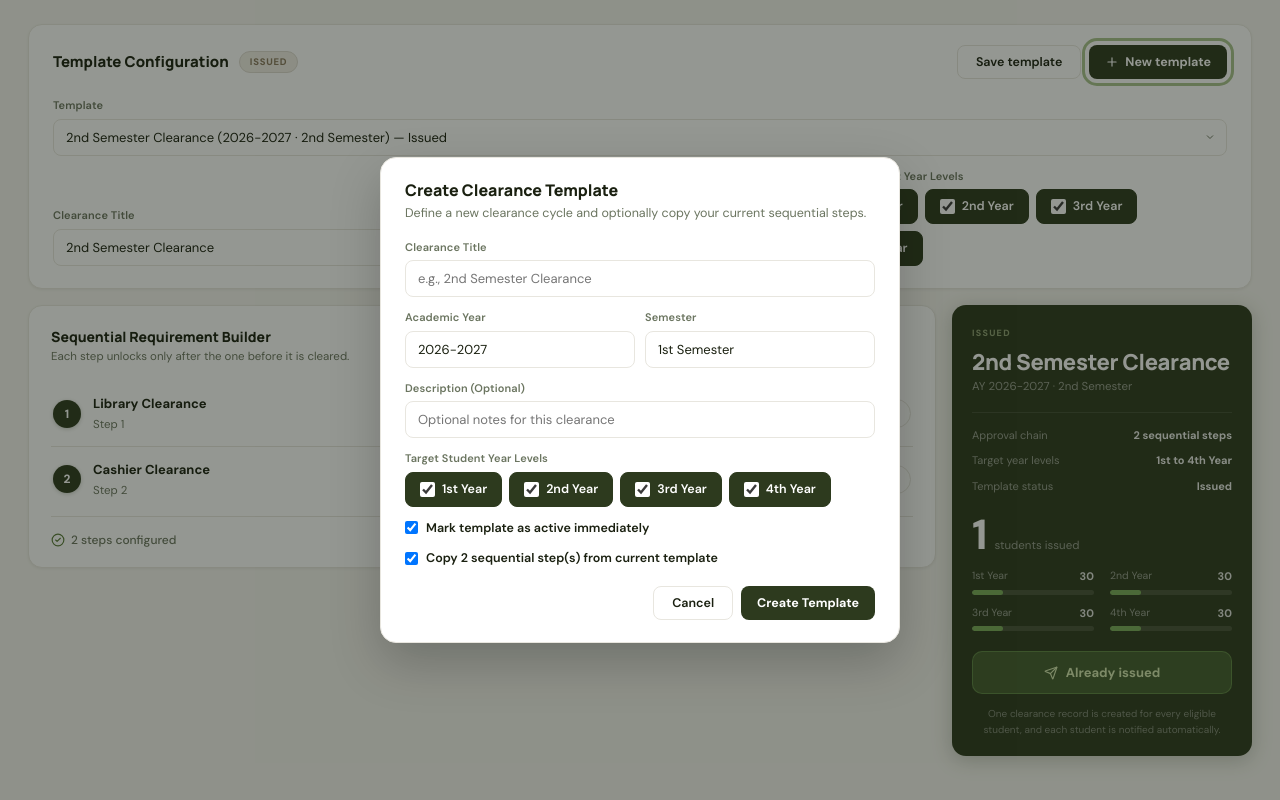
Test: E-Clearance DNSC End-to-End User Flows › Flow 2: Admin creates a multi-clearance template by cloning steps, adds a step, issues it, and filters Executive Dashboard
Earlier steps of the test are not shown.
Later steps or results of the test are not shown.
Type "Summer Clearance" into the field labelled "Clearance Title". click: (640, 279)
box: [405,260,875,297]
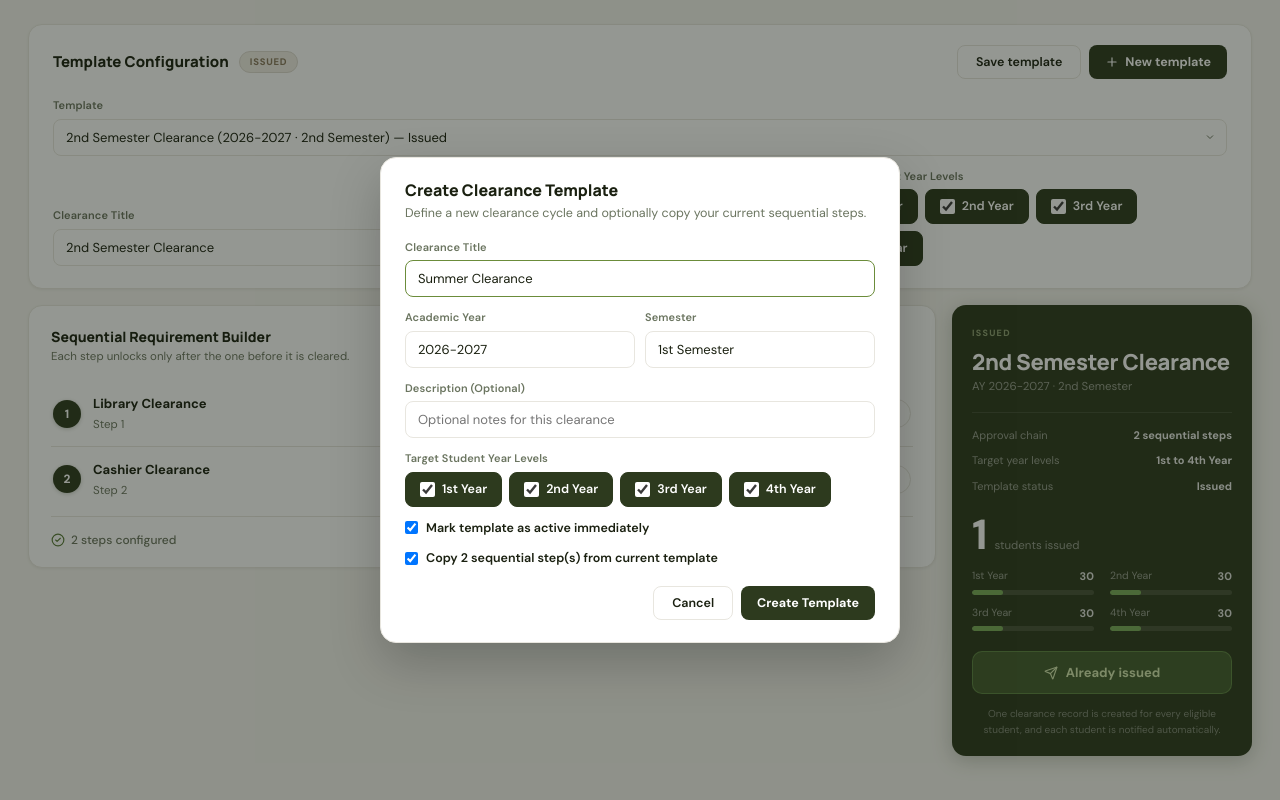
Replace the text in the field labelled "Semester" with "Summer". click: (760, 349)
box: [645,331,875,368]
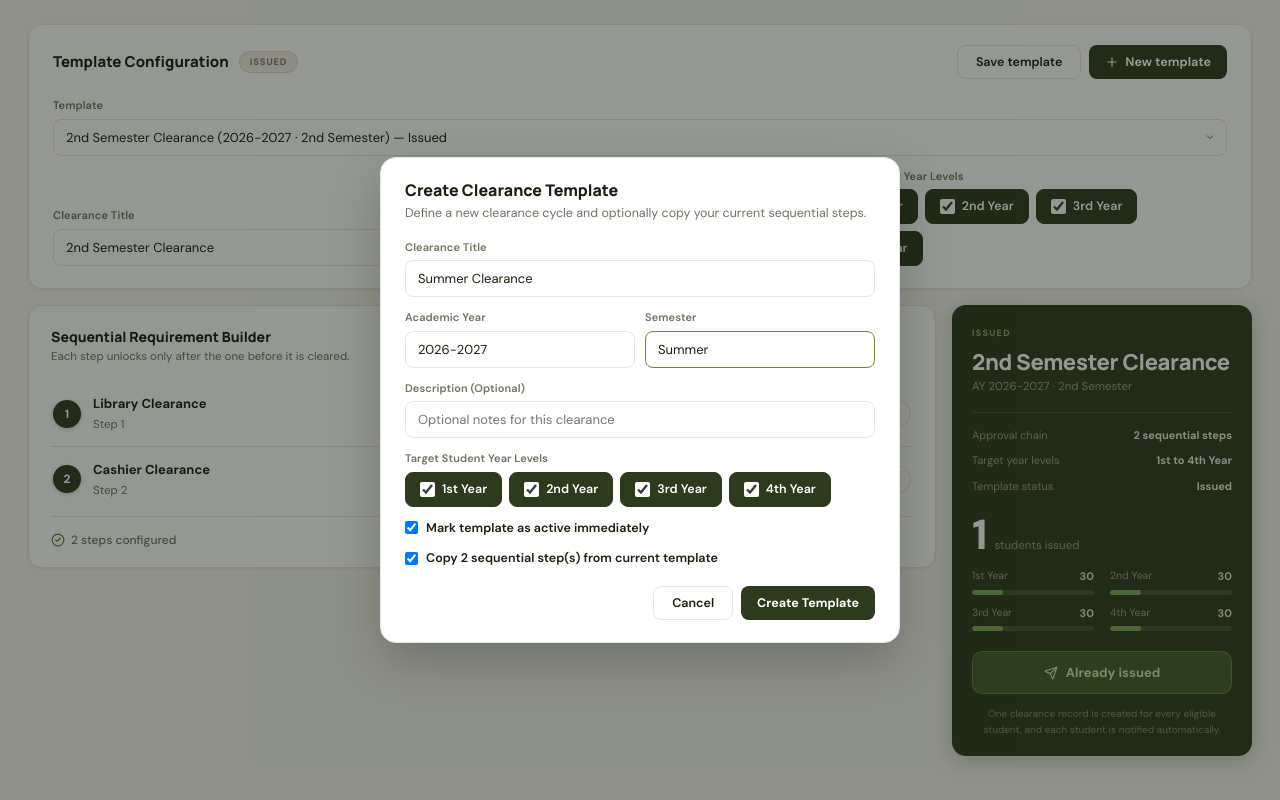
Click the button "Create Template". click: (808, 603)
box: [741,586,875,620]
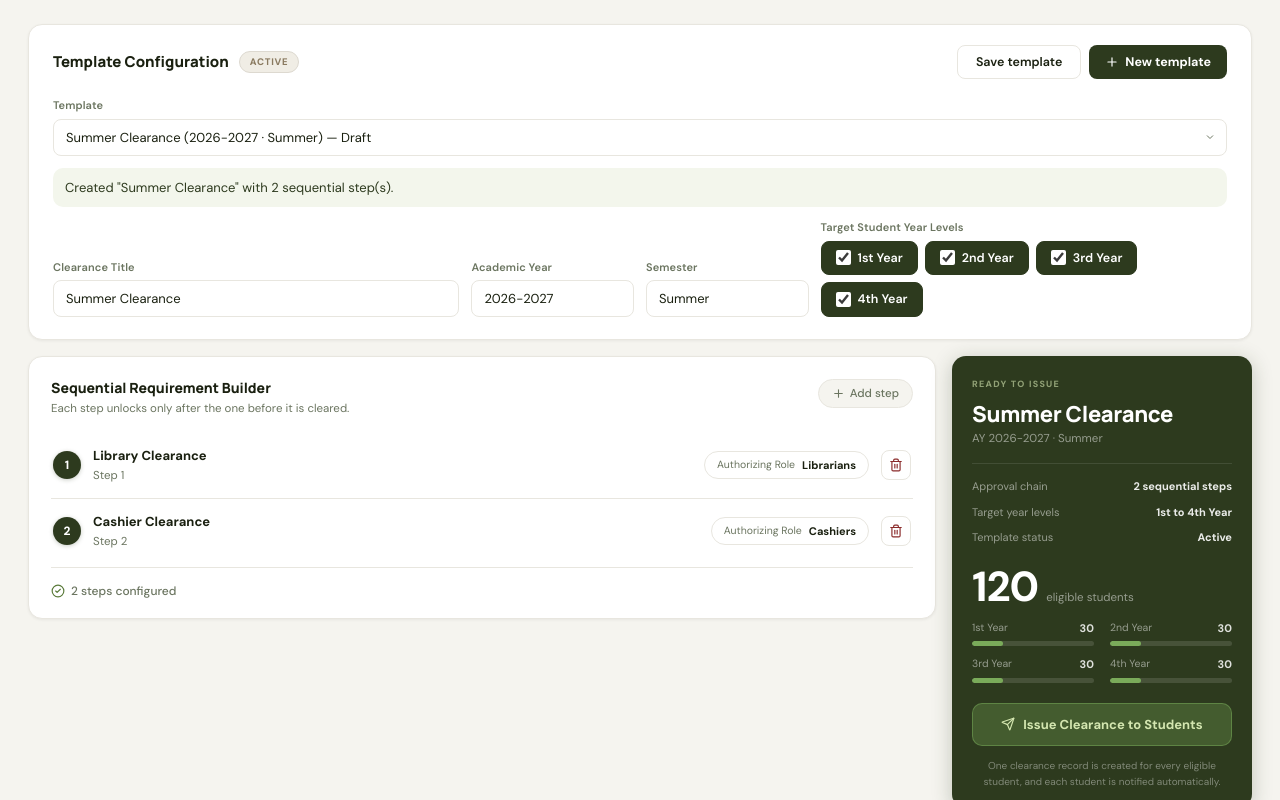
Result: the text "Created \"Summer Clearance\" with 2 sequential step(s)." is shown at [53,168,1227,207]
Click the button "Add step". click: (865, 394)
box: [818,379,913,408]
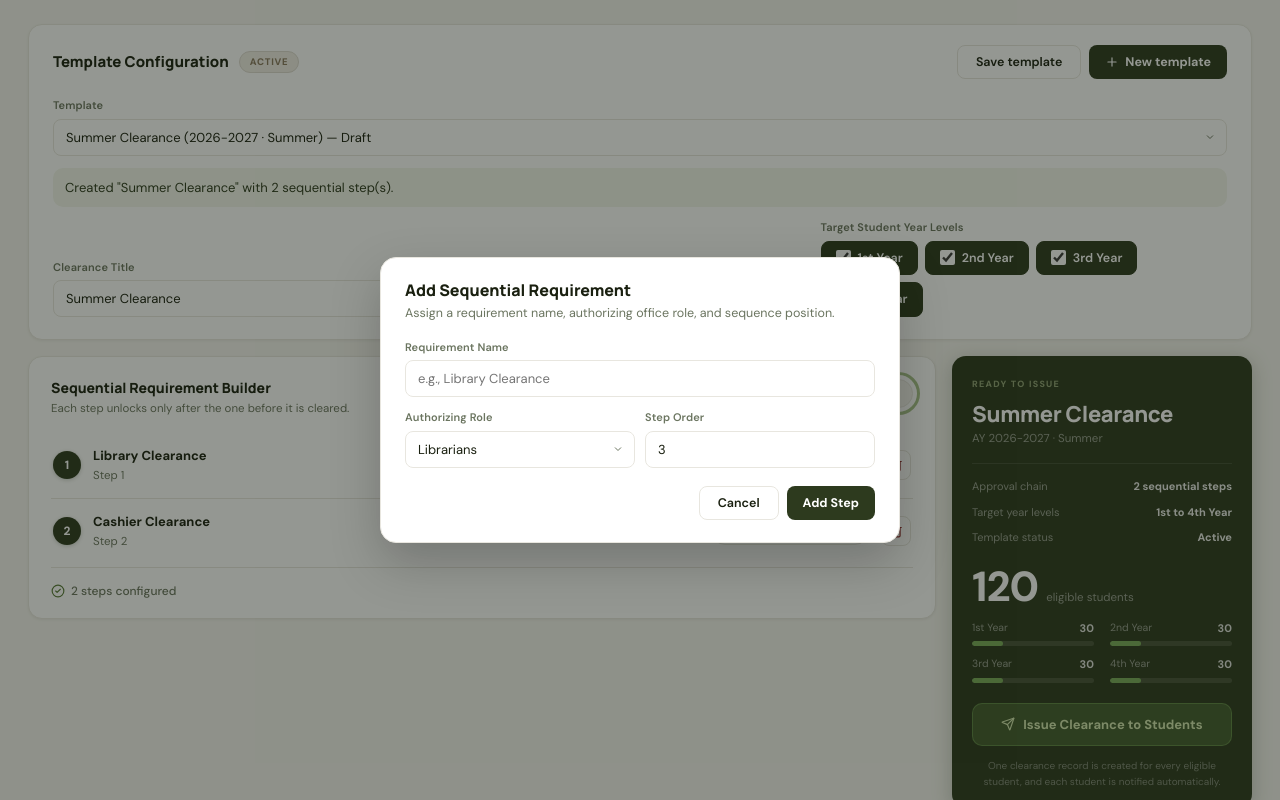
Type "Chair Approval" into the field labelled "Requirement Name". click: (640, 379)
box: [405,360,875,397]
Click the button "Add Step". click: (831, 503)
box: [787,486,875,520]
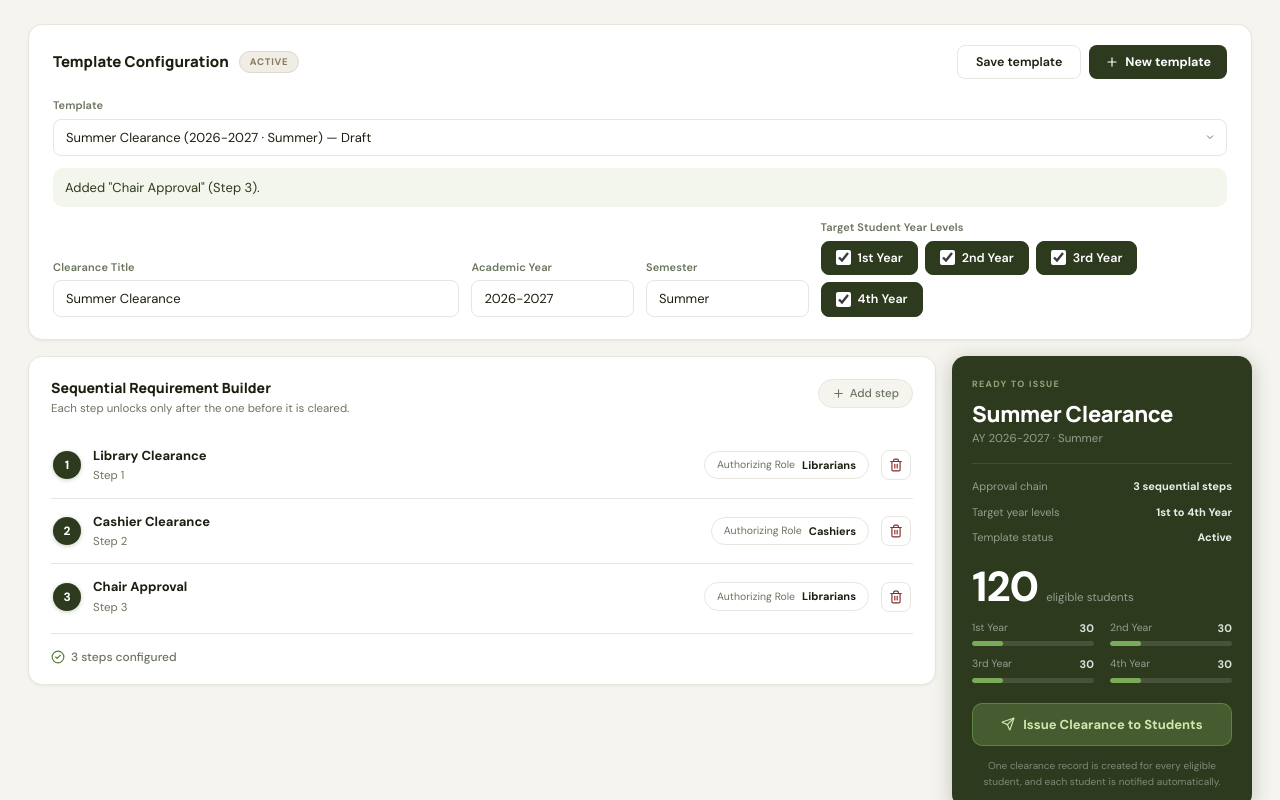
Result: the text "Chair Approval" is shown at [93,578,187,595]
Click the button "Issue Clearance to Students". click: (1102, 724)
box: [972,702,1232,746]
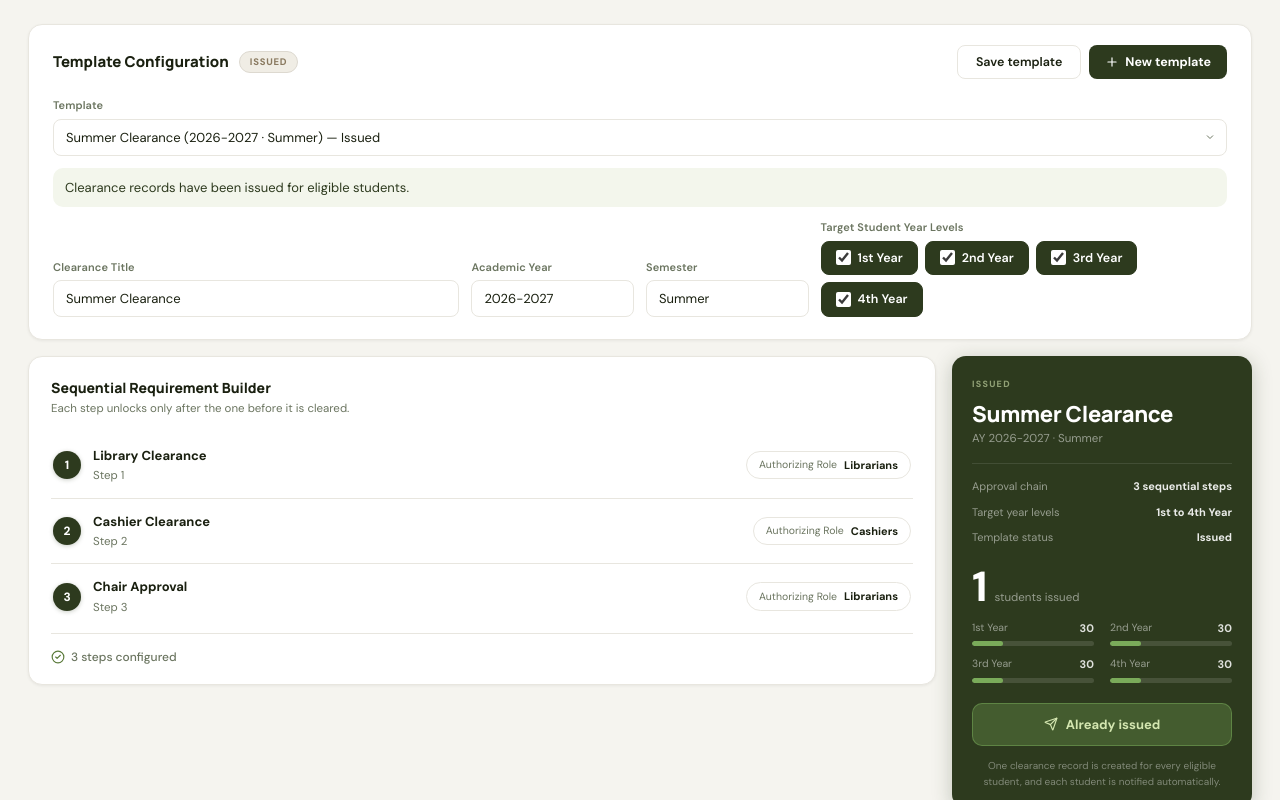
Result: the text "Clearance records have been issued for eligible students." is shown at [53,168,1227,207]
